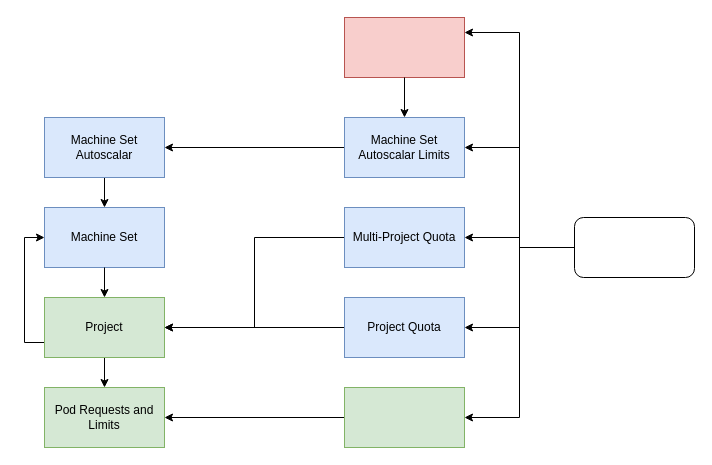
Image size: 712x465. Some labels were removed from this diagram. The centre of each missing label's shape, as x and y in pixels:
"Cluster Autoscaler limits" belongs at [404,47].
"Vertical\Horizontal Pod Autoscalar" belongs at [404,417].
"Windows AD Users Groups" belongs at [634,247].
